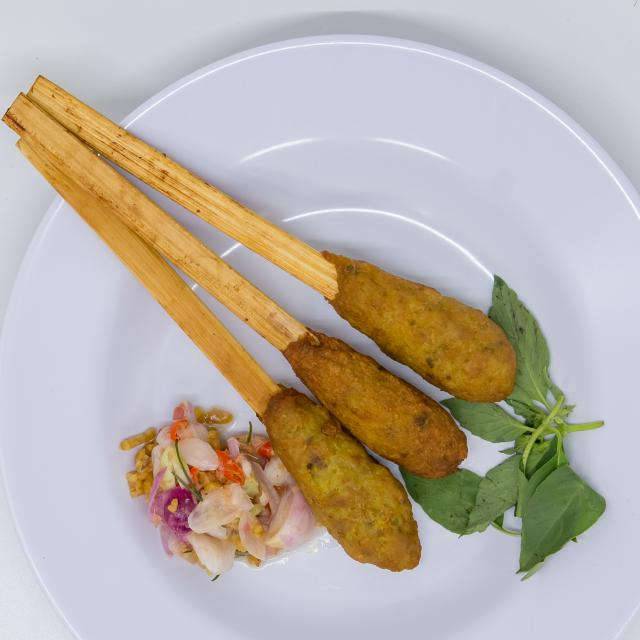Sate-Lilit: (62, 108, 609, 592)
